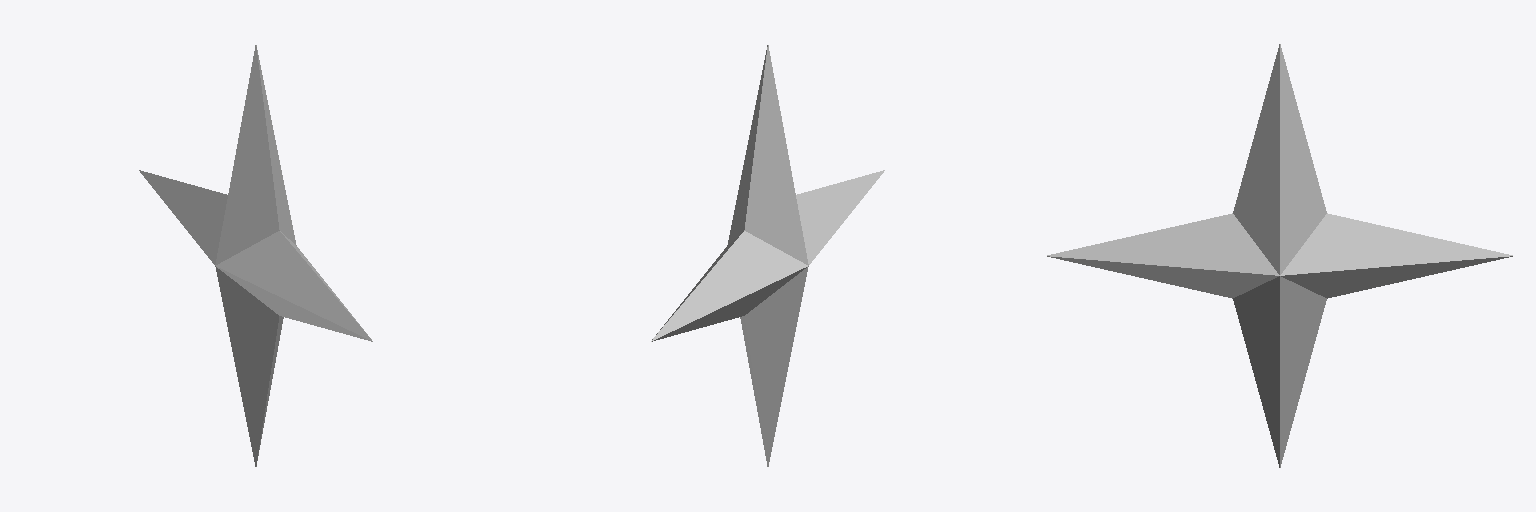
File: star_v.obj
3 renders of one model, left to right at view 1: azimuth 30°, elevation 25°; view 2: azimuth 150°, elevation 25°; view 3: azimuth 270°, elevation 25°, orthographic.
Visible parts, largest first — view 1: Cube; view 2: Cube; view 3: Cube.
Part boxes in pixels (x1,y1,x2,y2): Cube: (139,45,372,466); Cube: (651,45,884,466); Cube: (1047,44,1512,467).
Bounding box in the file's own units: 0.4 × 2 × 2.